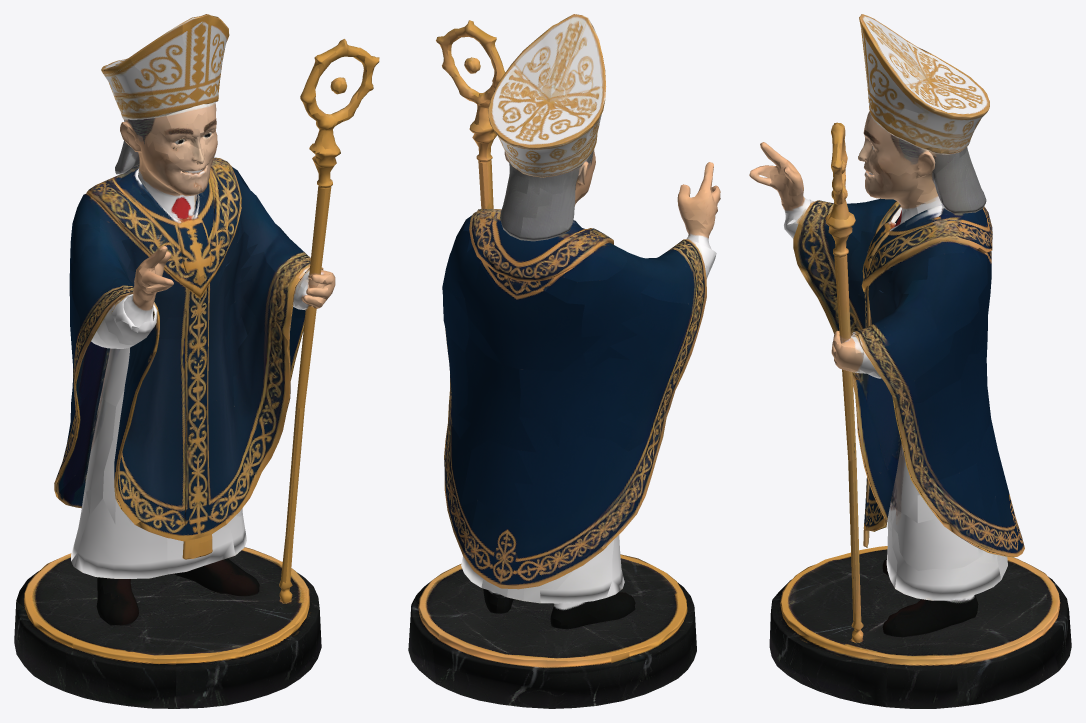
Rendered from right-bishop-ks.glb.
The picture shows the model from 3 angles, left to right: view 1: azimuth 30°, elevation 25°; view 2: azimuth 150°, elevation 25°; view 3: azimuth 270°, elevation 25°; orthographic projection. The views are drawn at different scales.
Bounding box in the file's own units: 0.4854 × 1 × 0.4648.
1 material, 1 textured.
